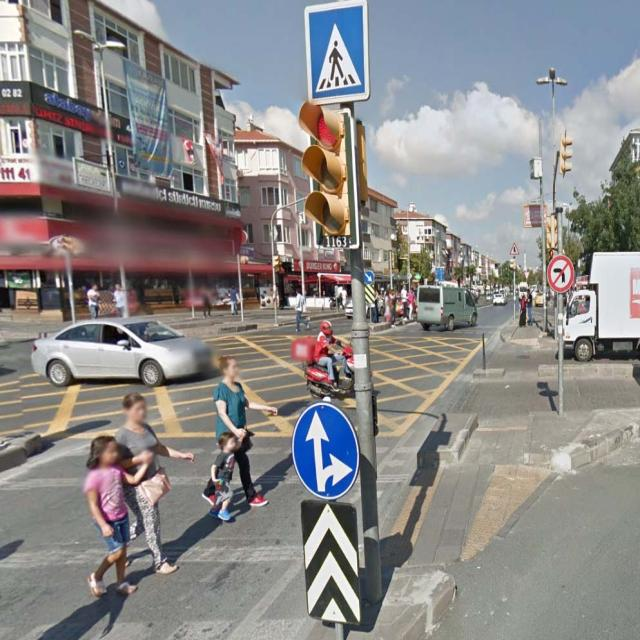ilerisag: (291, 402, 359, 499)
soladonulmez: (547, 255, 574, 292)
